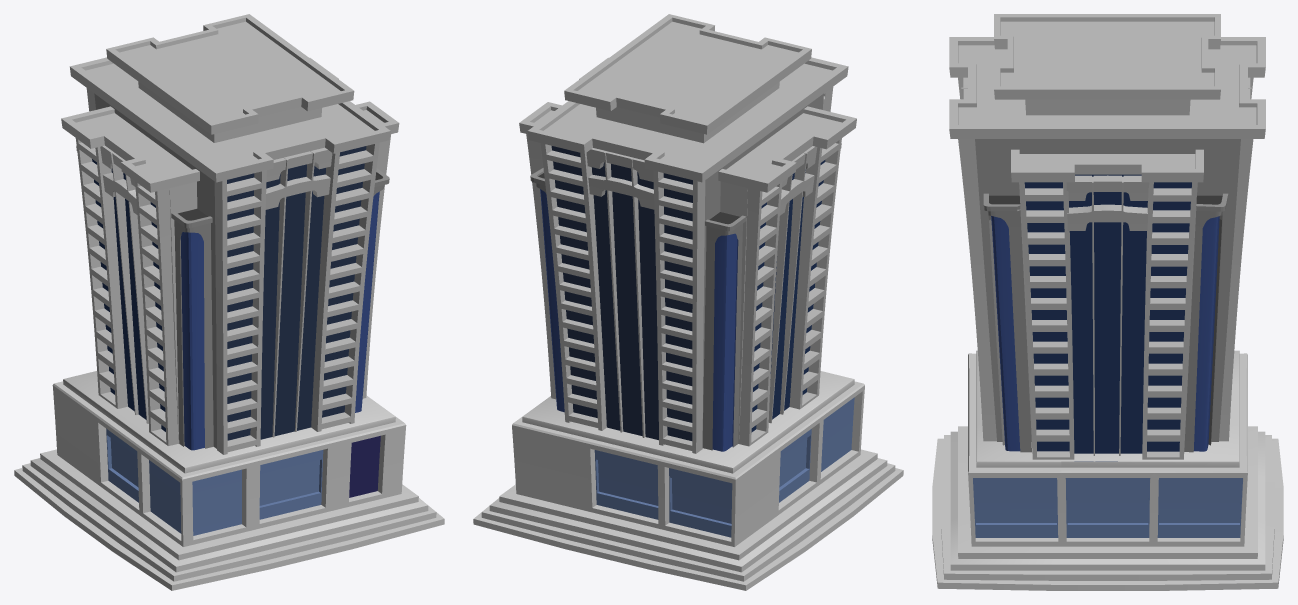
The model's file is Empire Buildings #2.FBX.
3 views of the same model, side by side, from view 1: azimuth 30°, elevation 25°; view 2: azimuth 150°, elevation 25°; view 3: azimuth 270°, elevation 25° (orthographic). The views are drawn at different scales.
Visible parts, largest first — view 1: Empire Buildings #2; view 2: Empire Buildings #2; view 3: Empire Buildings #2.
Boxes of the visible parts, x1,y1,x2,y2 form: Empire Buildings #2: (14,14,444,590); Empire Buildings #2: (473,14,903,590); Empire Buildings #2: (932,14,1283,590).
Bounding box in the file's own units: 23.14 × 33.8 × 23.14.
